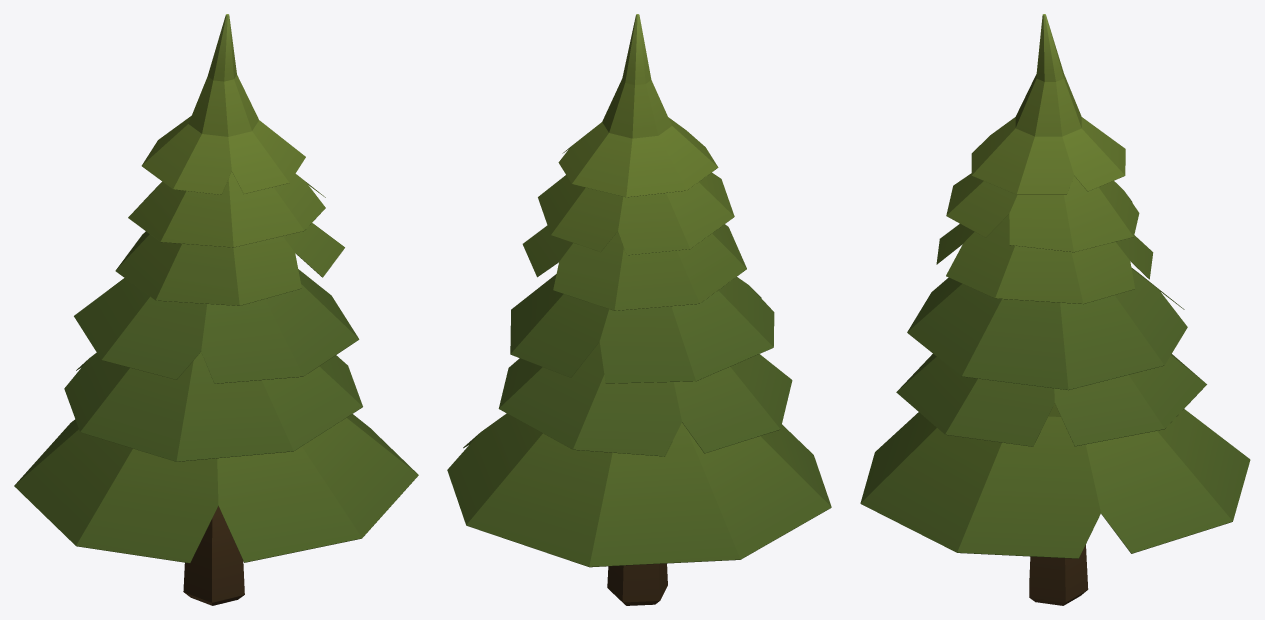
The model's file is Tree_02.fbx.
3 renders of one model, left to right at view 1: azimuth 30°, elevation 25°; view 2: azimuth 150°, elevation 25°; view 3: azimuth 270°, elevation 25°, orthographic.
Parts seen in each view (by area): view 1: Tree_02; view 2: Tree_02; view 3: Tree_02.
Part boxes in pixels (box(x1,y1,x2,y2)): Tree_02: box(14, 14, 418, 605); Tree_02: box(447, 14, 831, 605); Tree_02: box(860, 14, 1250, 605).
Bounding box in the file's own units: 3.73 × 6.23 × 3.77.
